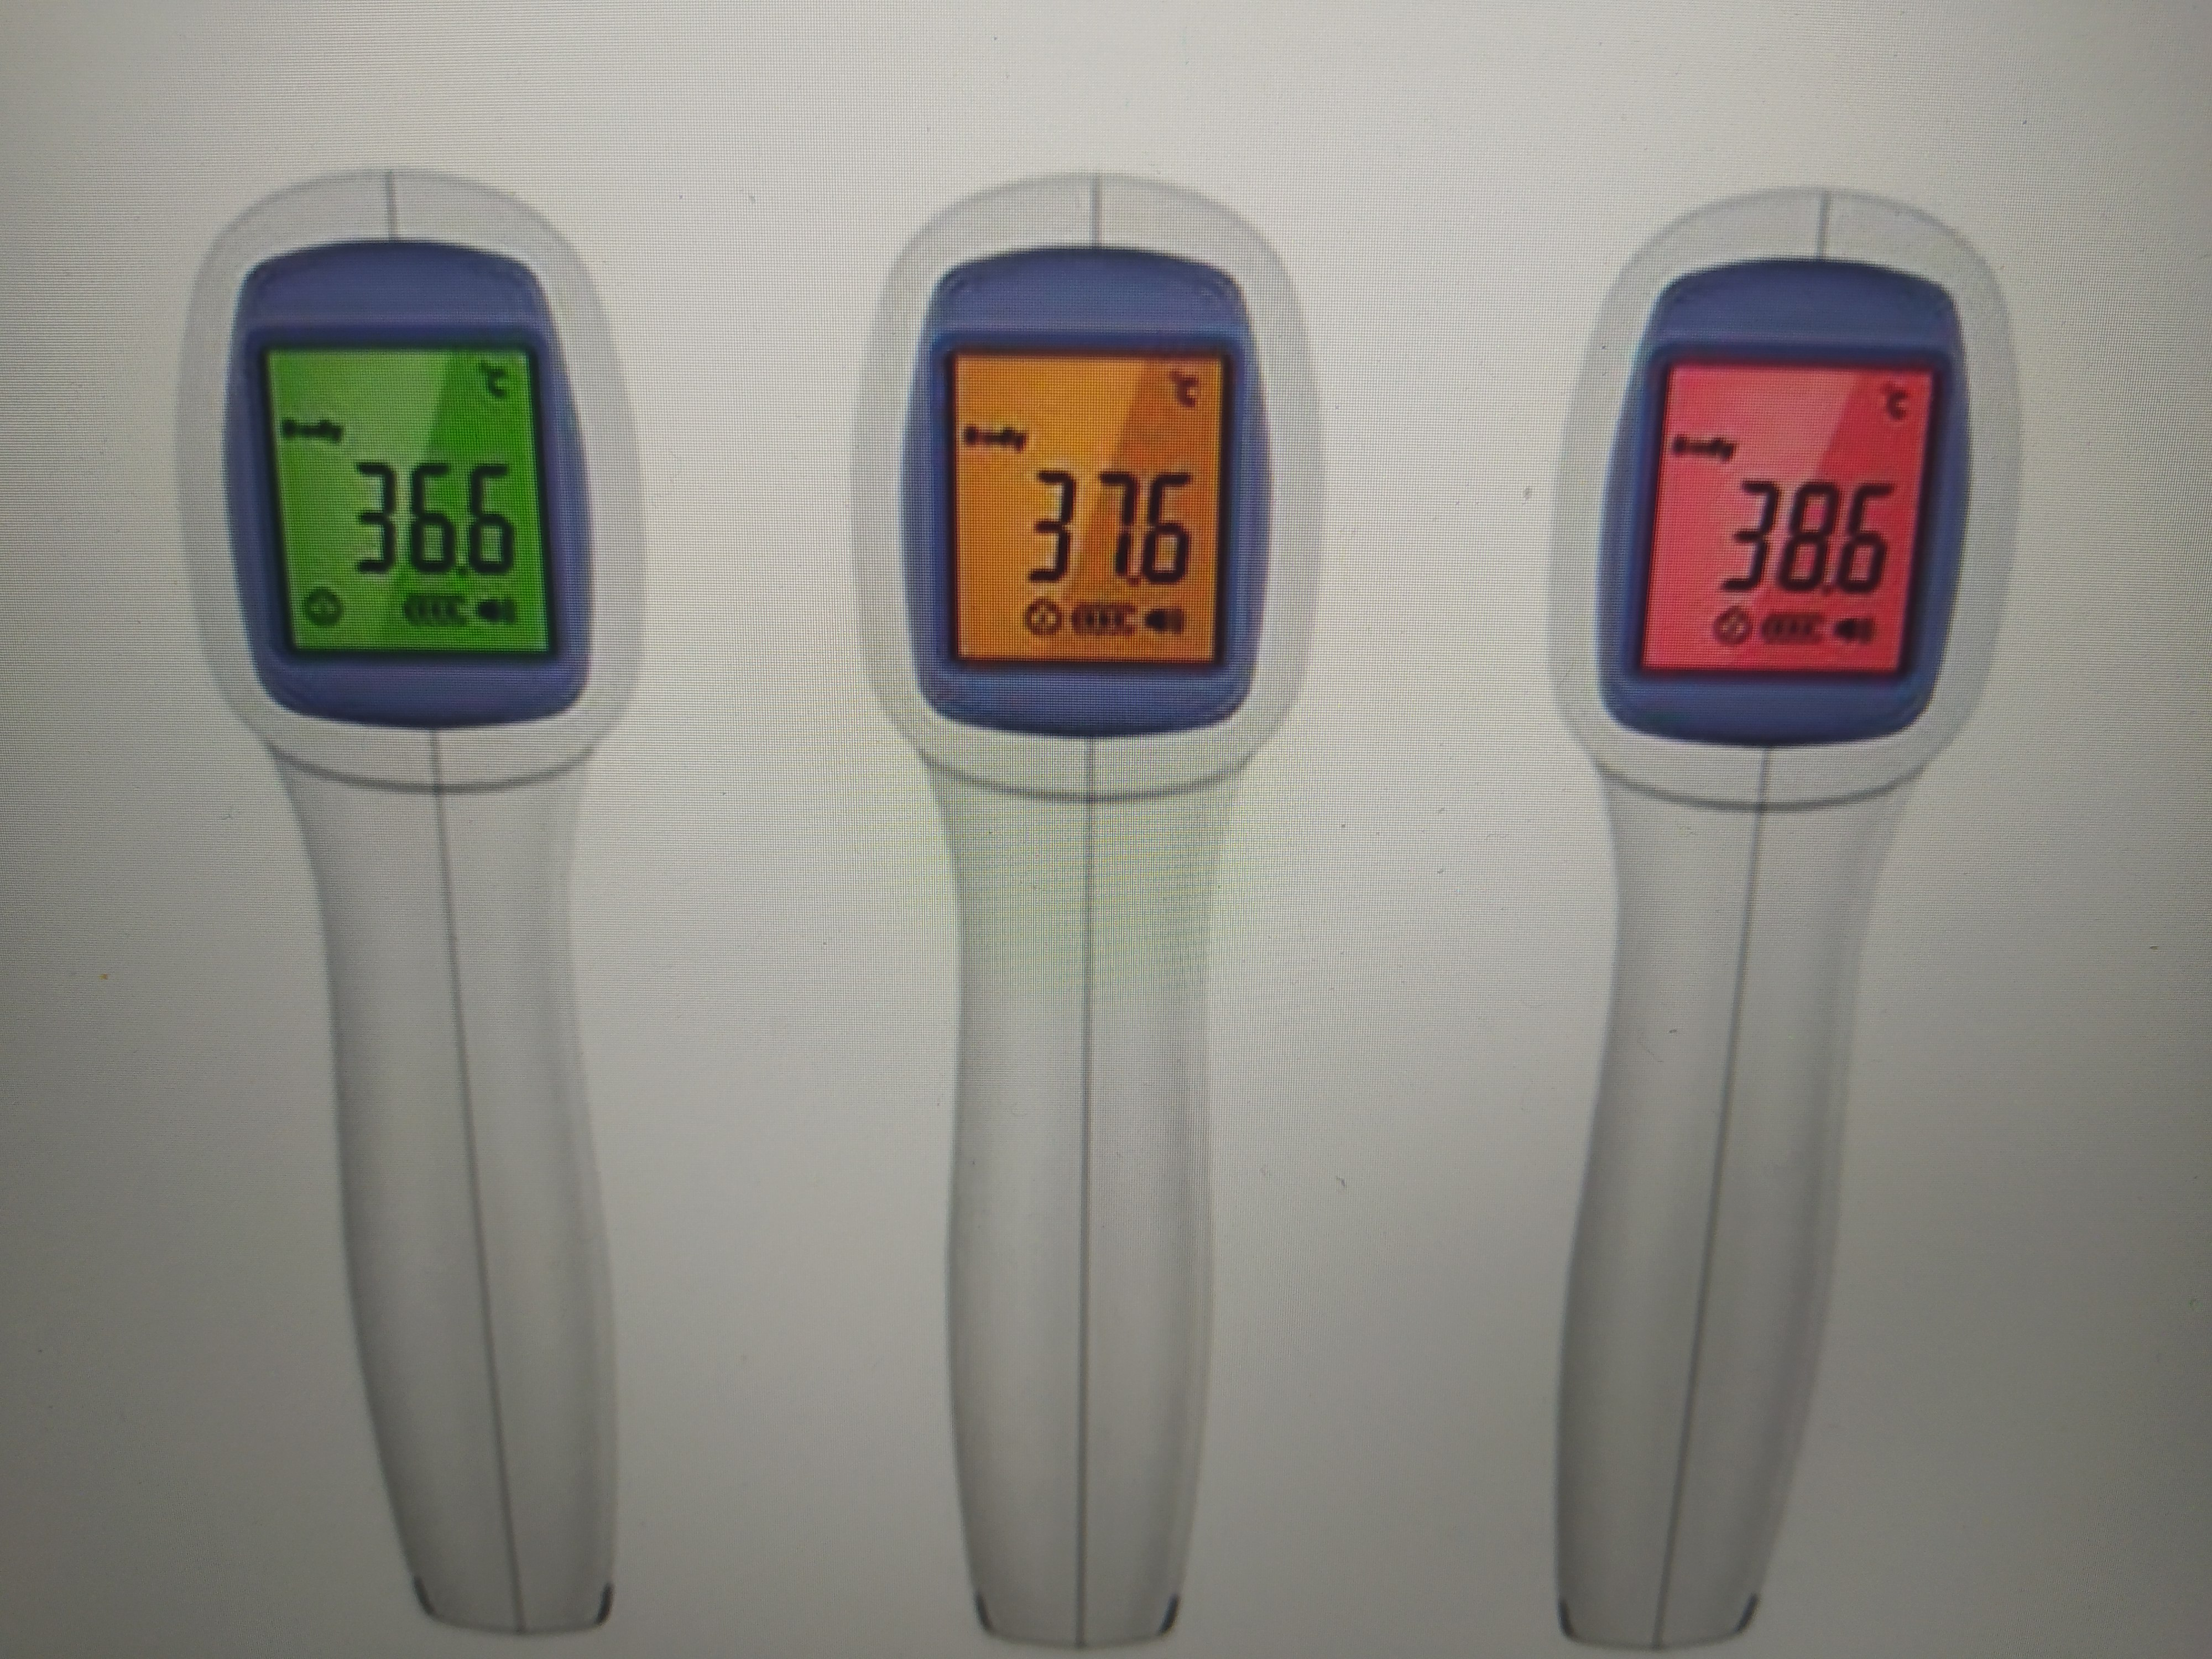.: (453, 464, 469, 575), (1127, 471, 1141, 586), (1822, 481, 1832, 599)
3: (1721, 479, 1778, 591), (1026, 469, 1076, 582), (352, 458, 401, 575)
6: (1836, 481, 1897, 592), (1143, 471, 1193, 587), (469, 464, 517, 575), (409, 464, 456, 573)
7: (1094, 469, 1139, 577)
8: (1780, 481, 1841, 592)
